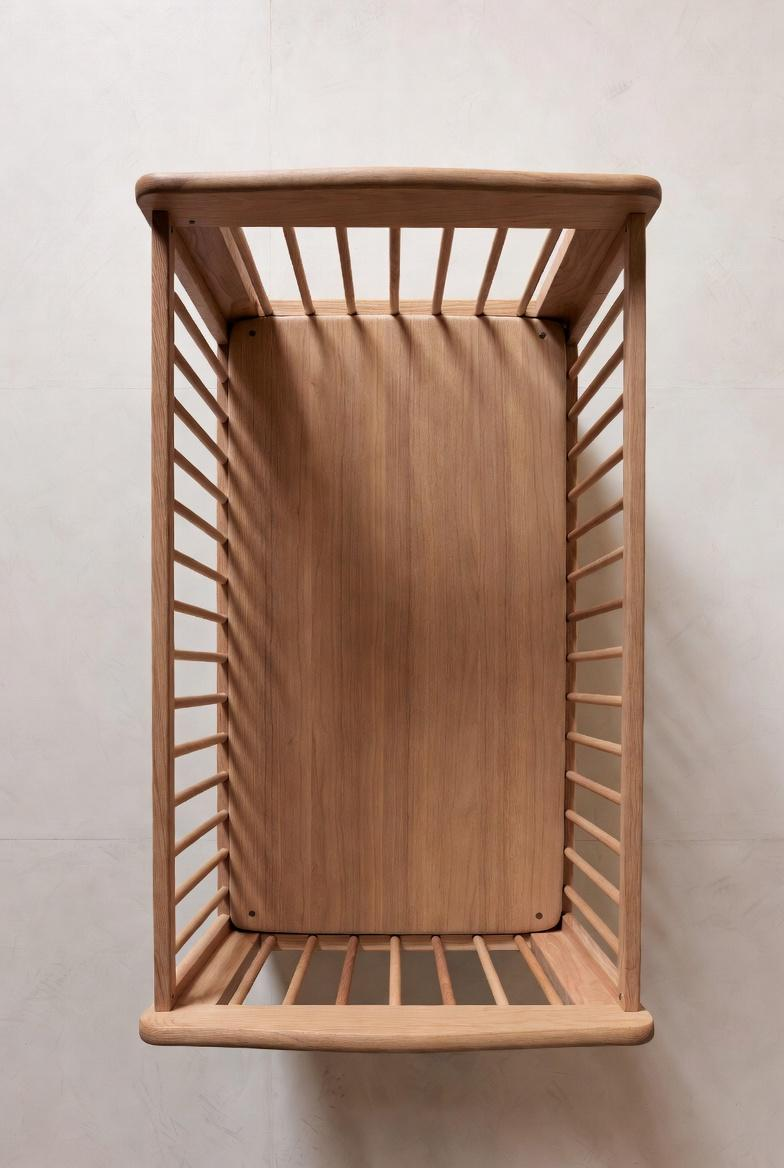crib: (137, 169, 660, 1050)
